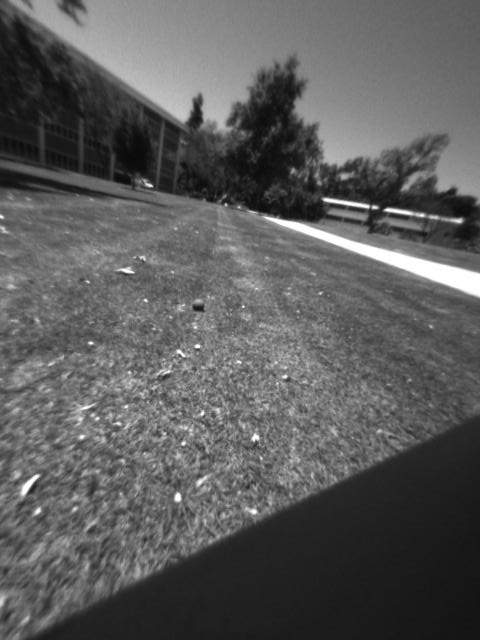dogtoy: (187, 293, 211, 319)
